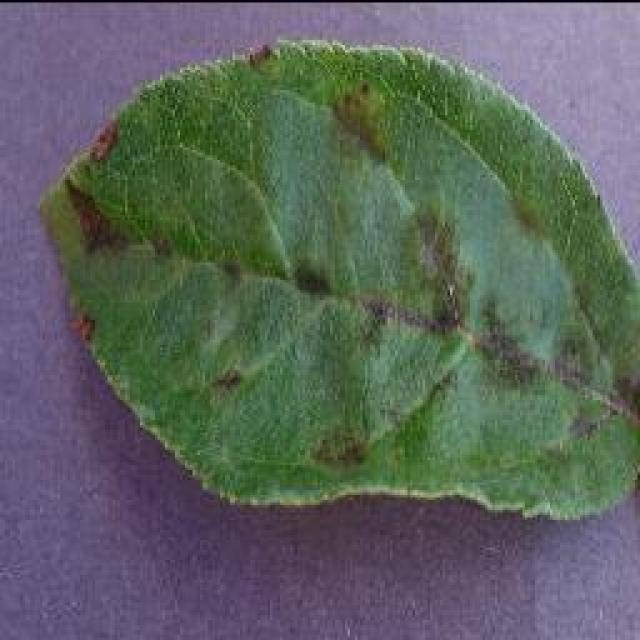apple scab disease: (35, 35, 637, 523)
